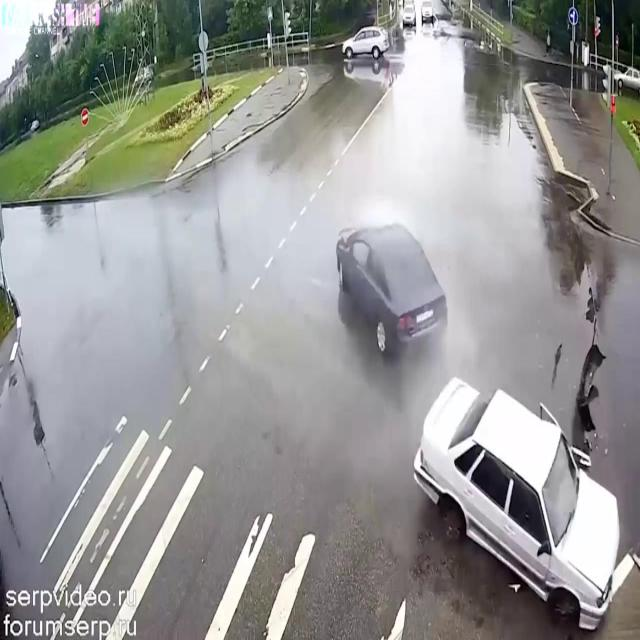accident: (327, 200, 627, 640)
